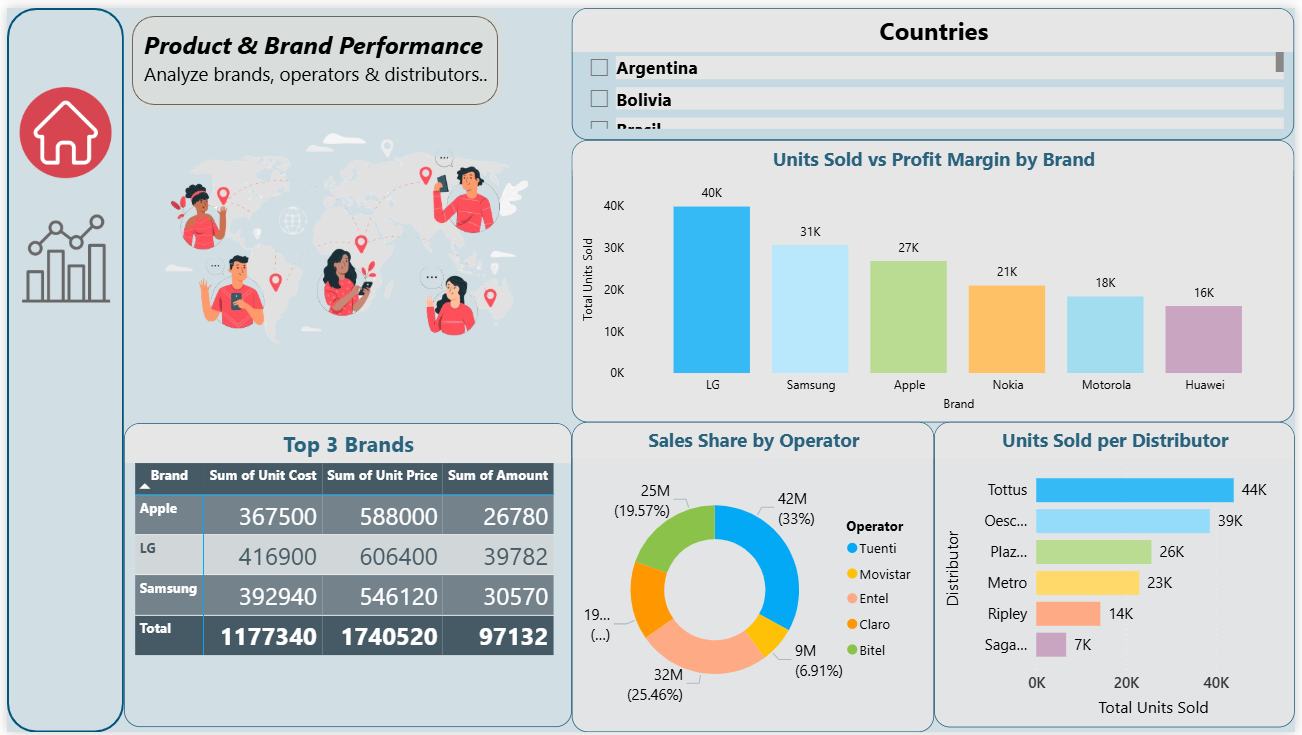

What the dashboard file says about the page in this screenshot:
{"tool":"powerbi","page":{"name":"Product & Brand Performance","canvas":[1280,720],"ordinal":1},"visuals":[{"type":"shape","box":[116.5,0,379.8,104.3],"z":0},{"type":"textbox","box":[131,14.6,378.6,80.1],"z":1000},{"type":"shape","box":[0,0,116.2,720],"z":2000},{"type":"image","box":[15,201.2,87.5,95],"z":3000},{"type":"image","box":[12.5,65,91.2,117.5],"z":4000},{"type":"clusteredColumnChart","title":"Units Sold vs Profit Margin by Brand","fields":{"Y":["Phone Sales.Total Units Sold"],"Category":["Phone Sales.Brand"]},"box":[561.8,131,718.3,280.3],"z":5000},{"type":"image","box":[116.5,104.3,445.3,256],"z":6000},{"type":"barChart","title":"Units Sold per Distributor","fields":{"Category":["Phone Sales.Distributor"],"Y":["Phone Sales.Total Units Sold"]},"box":[921.2,411.2,358.8,303.8],"z":7000},{"type":"pivotTable","title":"Top 3 Brands","fields":{"Rows":["Phone Sales.Brand"],"Values":["Sum(Phone Sales.Unit Cost)","Sum(Phone Sales.Unit Price)","Sum(Phone Sales.Amount)"]},"box":[116.2,412.5,445,302.5],"z":8000},{"type":"donutChart","title":" Sales Share by Operator","fields":{"Category":["Phone Sales.Operator"],"Y":["Phone Sales.Total sales"]},"box":[561.2,411.2,360,308.8],"z":9000},{"type":"slicer","title":"Countries","fields":{"Values":["Phone Sales.Country"]},"box":[561.8,0,718.3,131],"z":10000}]}

Visuals, with their boxes in screenshot pixels (x1, y1, x2, y2), scaled from the page's 1280x720 canvas onto the 1302x735 screenshot:
shape: {"left": 119, "top": 0, "right": 505, "bottom": 106}
textbox: {"left": 133, "top": 15, "right": 518, "bottom": 97}
shape: {"left": 0, "top": 0, "right": 118, "bottom": 734}
image: {"left": 15, "top": 205, "right": 104, "bottom": 302}
image: {"left": 13, "top": 66, "right": 105, "bottom": 186}
"Units Sold vs Profit Margin by Brand" clusteredColumnChart: {"left": 571, "top": 134, "right": 1301, "bottom": 420}
image: {"left": 119, "top": 106, "right": 571, "bottom": 368}
"Units Sold per Distributor" barChart: {"left": 937, "top": 420, "right": 1301, "bottom": 730}
"Top 3 Brands" pivotTable: {"left": 118, "top": 421, "right": 571, "bottom": 730}
" Sales Share by Operator" donutChart: {"left": 571, "top": 420, "right": 937, "bottom": 734}
"Countries" slicer: {"left": 571, "top": 0, "right": 1301, "bottom": 134}
